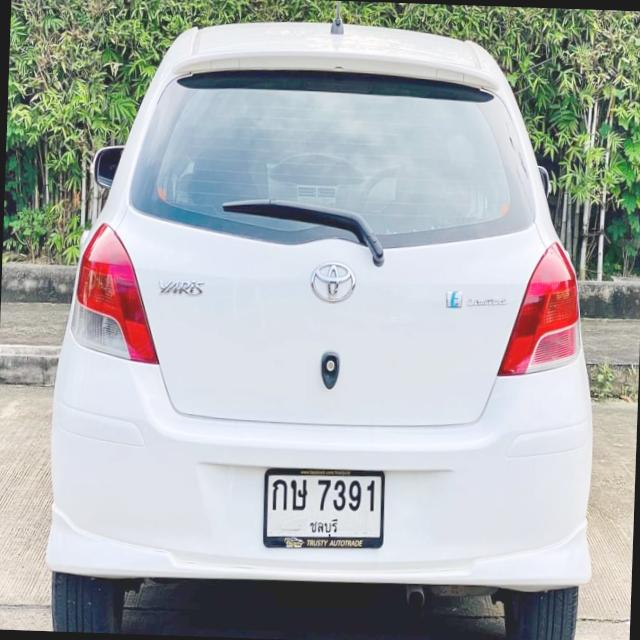license_plate: (261, 466, 388, 552)
